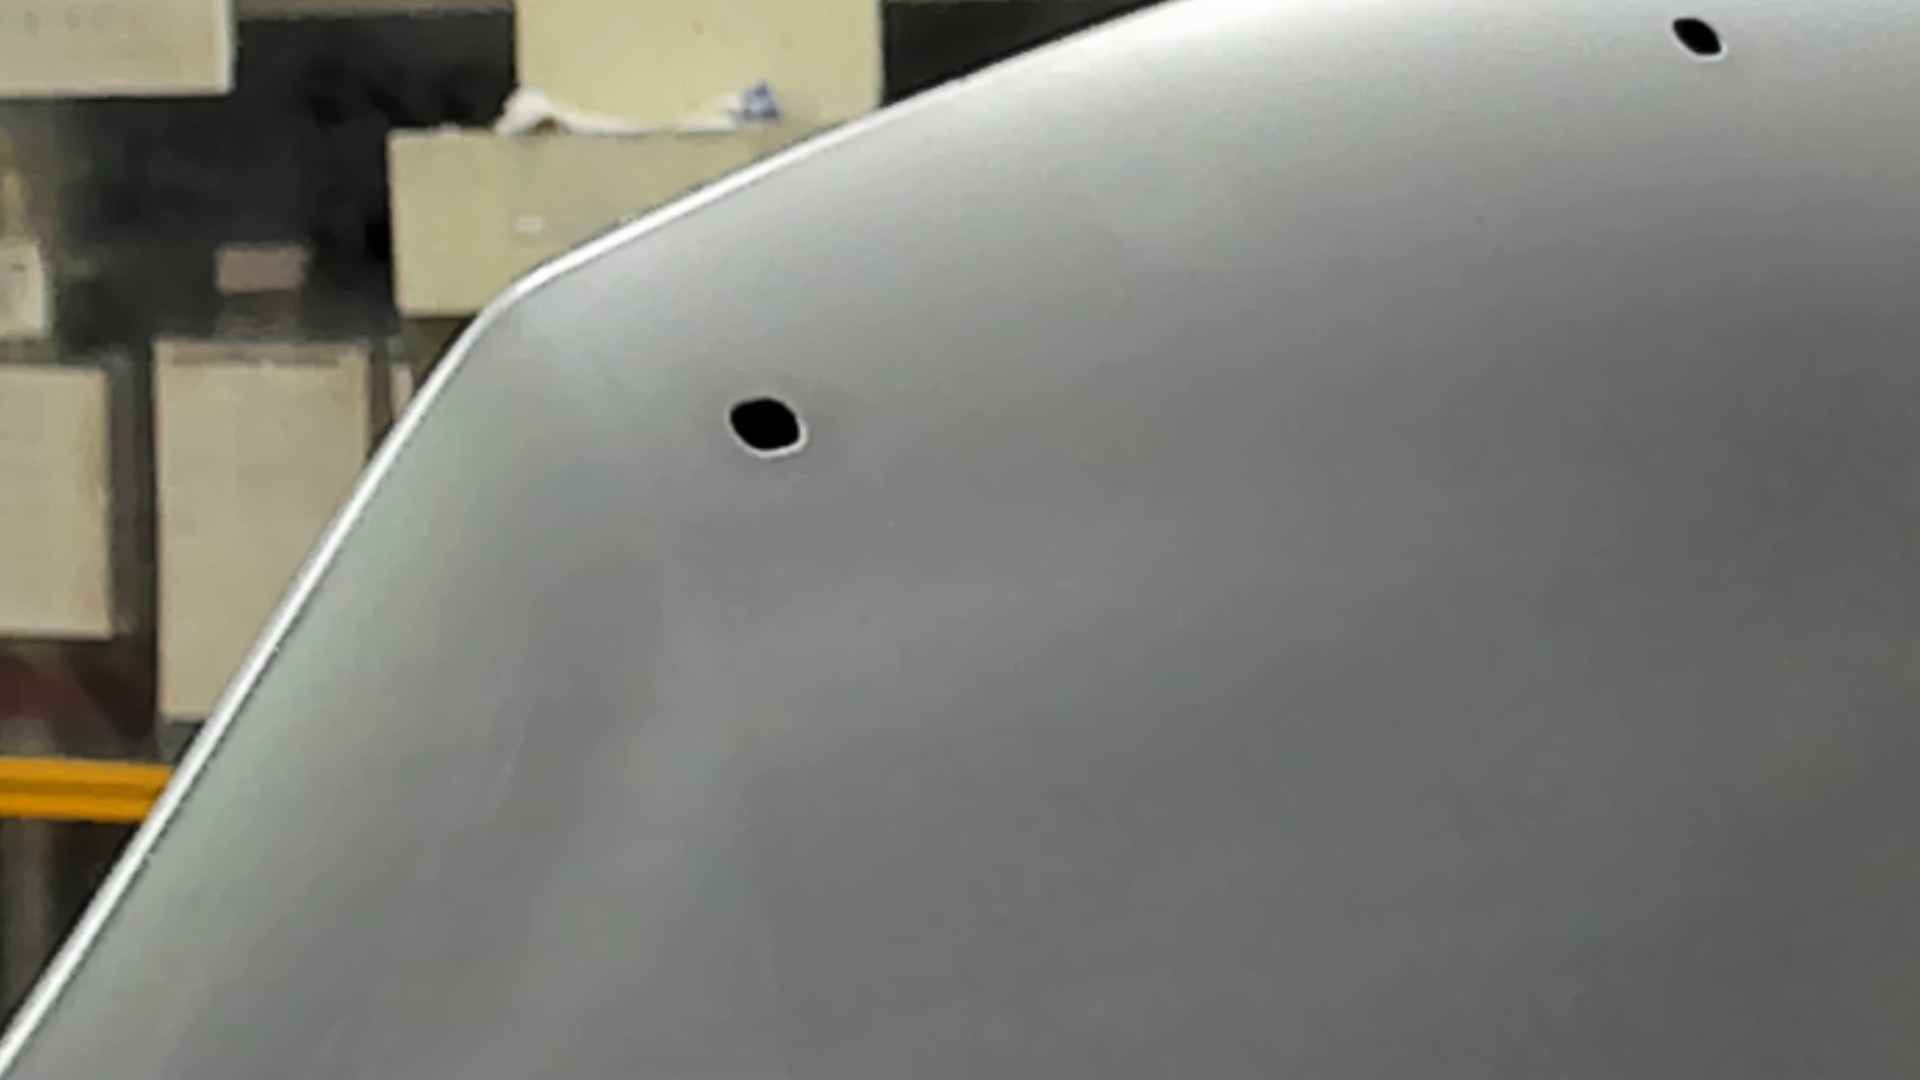amorfo: (723, 390, 811, 462), (1665, 4, 1742, 69)
capo: (945, 157, 1920, 1080)
